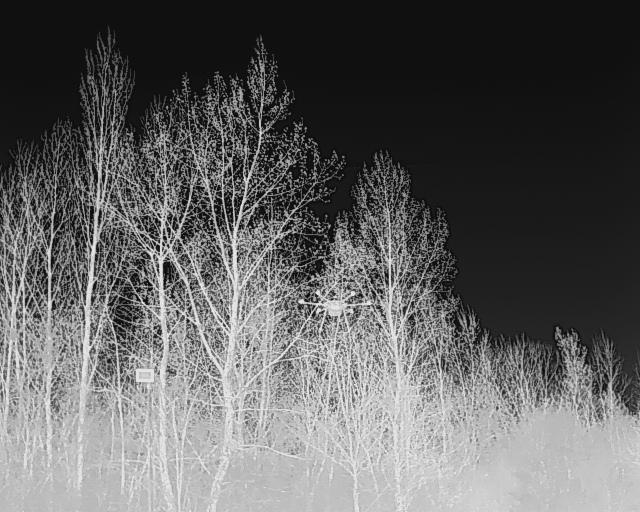drone: (288, 285, 378, 333)
